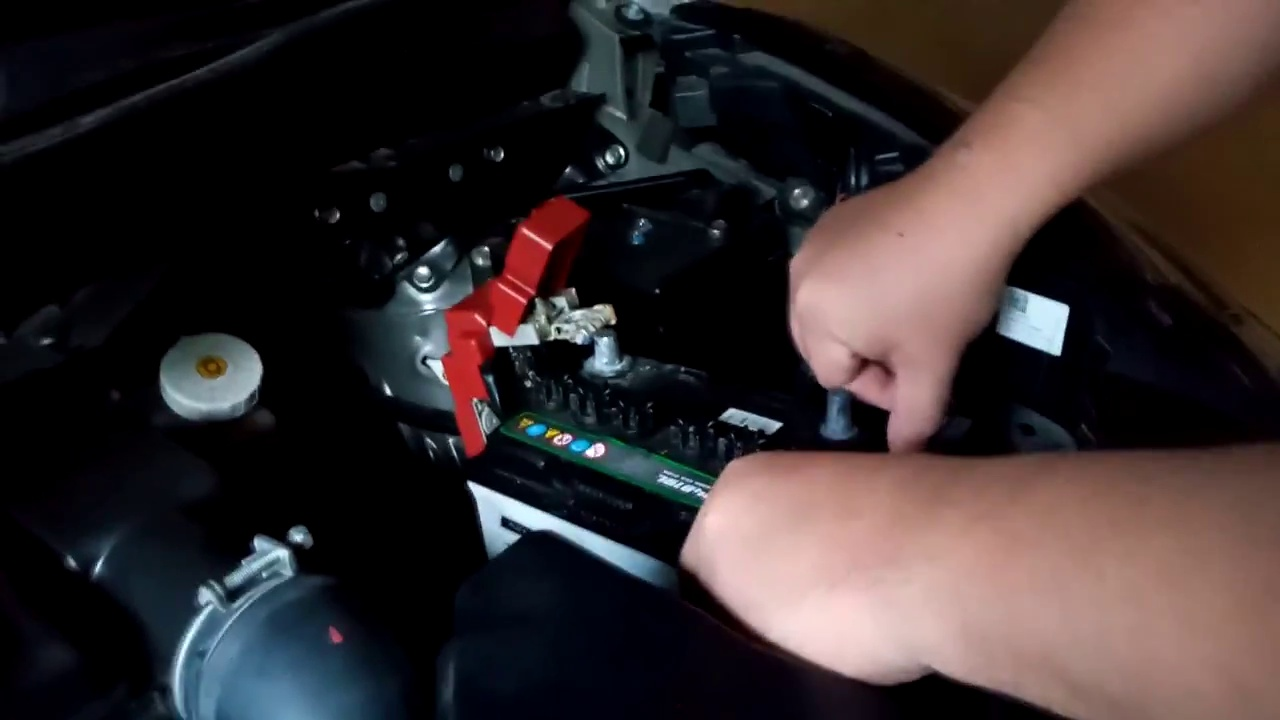battery: (459, 335, 887, 573)
neg_touched: (791, 309, 924, 460)
pos_disconnected: (420, 233, 668, 447)
